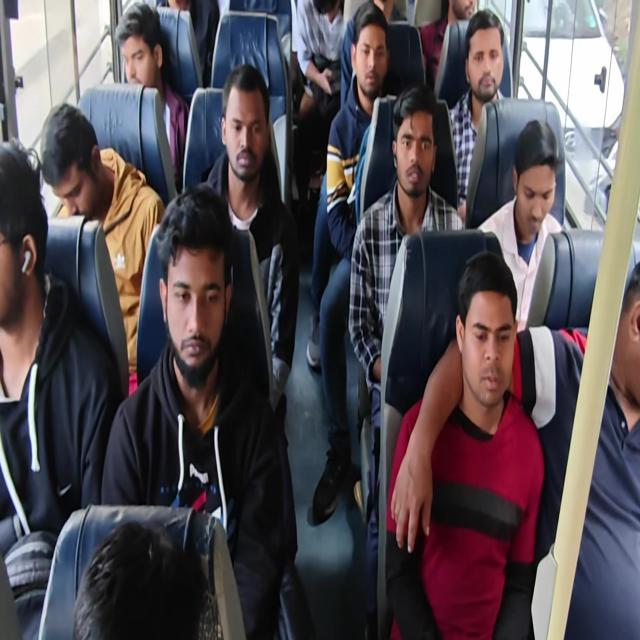person: (72, 513, 225, 638), (152, 190, 235, 376), (452, 245, 516, 405), (0, 120, 46, 328), (36, 100, 111, 221), (384, 68, 438, 214), (109, 3, 175, 93), (217, 68, 268, 178), (510, 124, 562, 229), (345, 0, 396, 101), (612, 252, 640, 412), (465, 10, 506, 114), (162, 0, 211, 21), (310, 0, 346, 25), (444, 0, 481, 21)
